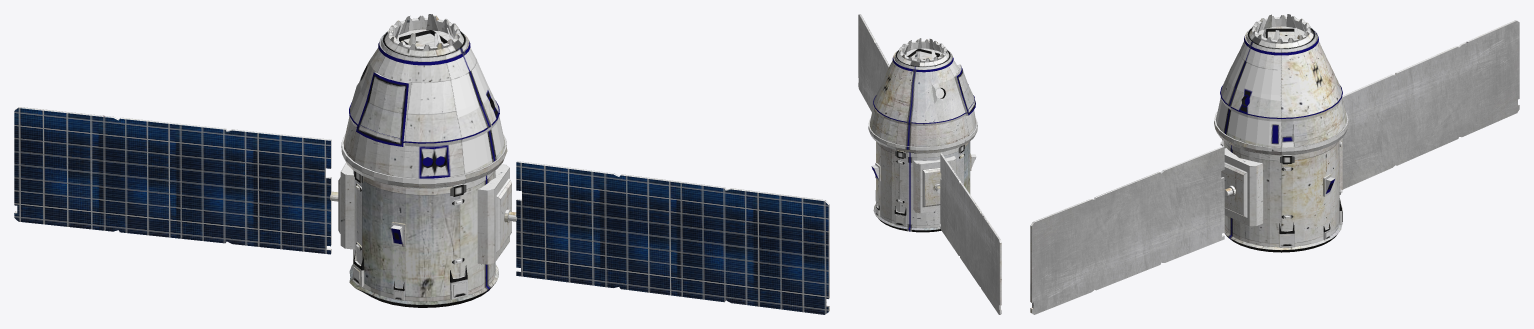
File: Dragon.obj
The picture shows the model from 3 angles, left to right: view 1: azimuth 30°, elevation 25°; view 2: azimuth 150°, elevation 25°; view 3: azimuth 270°, elevation 25°; orthographic projection. The views are drawn at different scales.
Parts seen in each view (by area): view 1: Dragon_Цилиндр.001; view 2: Dragon_Цилиндр.001; view 3: Dragon_Цилиндр.001.
Part boxes in pixels (left/top/right/bottom): Dragon_Цилиндр.001: left=14, top=14, right=829, bottom=314; Dragon_Цилиндр.001: left=858, top=14, right=1001, bottom=314; Dragon_Цилиндр.001: left=1030, top=14, right=1519, bottom=314.
Size of the model in its own units: 8.33 by 3.92 by 8.41.
